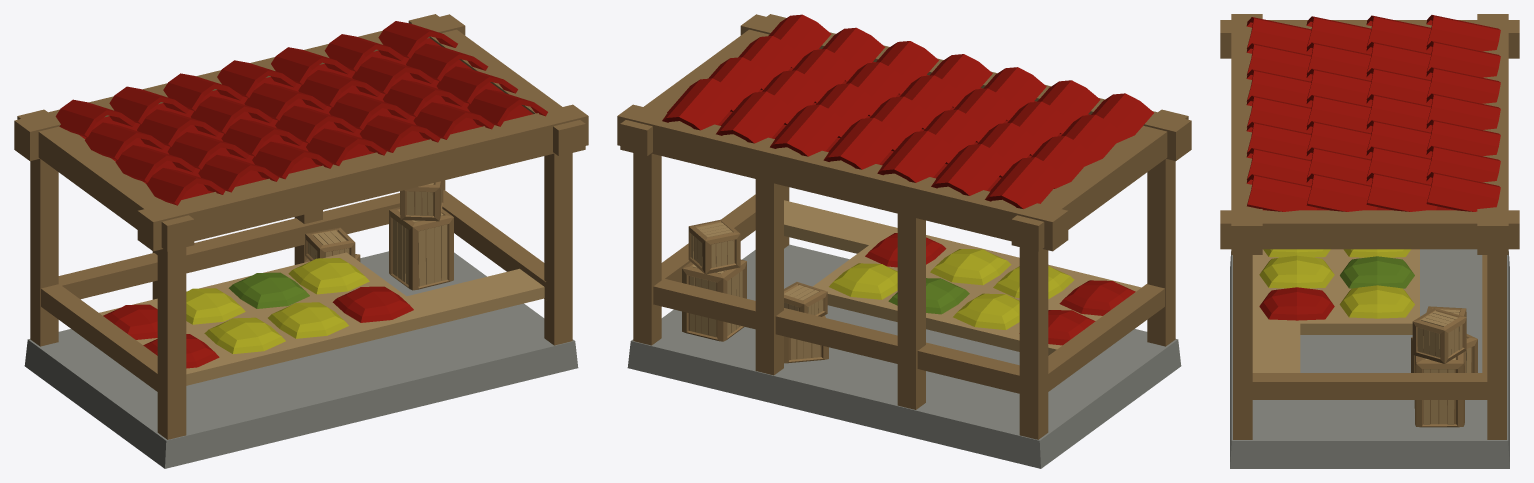
Rendered from Stall_3.fbx.
The picture shows the model from 3 angles, left to right: view 1: azimuth 30°, elevation 25°; view 2: azimuth 150°, elevation 25°; view 3: azimuth 270°, elevation 25°; orthographic projection.
Parts seen in each view (by area): view 1: Market_SecondAge_Level3; view 2: Market_SecondAge_Level3; view 3: Market_SecondAge_Level3.
Part boxes in pixels (<box>): Market_SecondAge_Level3: <box>14,14,588,468</box>; Market_SecondAge_Level3: <box>617,14,1191,468</box>; Market_SecondAge_Level3: <box>1220,14,1519,468</box>.
Bounding box in the file's own units: 0.9832 × 0.5898 × 0.5872.
